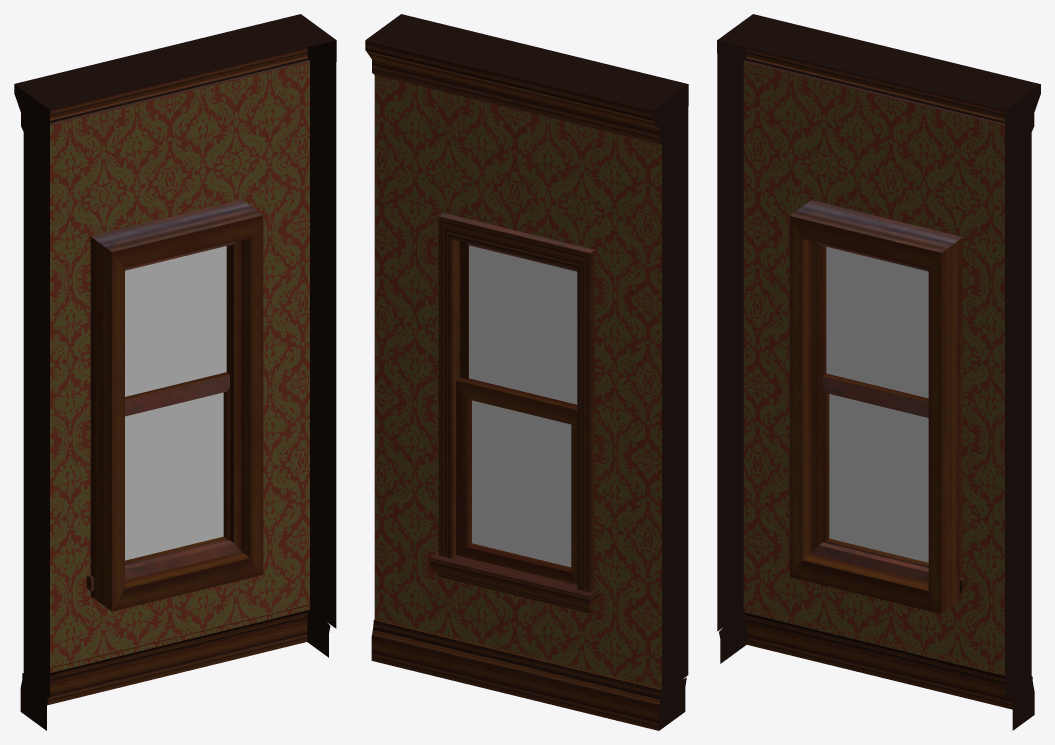
File: Wall_Plain_Window.fbx
The picture shows the model from 3 angles, left to right: view 1: azimuth 30°, elevation 25°; view 2: azimuth 150°, elevation 25°; view 3: azimuth 330°, elevation 25°; orthographic projection.
Parts seen in each view (by area): view 1: WallSmoothWindowREG; view 2: WallSmoothWindowREG; view 3: WallSmoothWindowREG.
Part boxes in pixels (x1,y1,x2,y2): WallSmoothWindowREG: (14, 14, 336, 730); WallSmoothWindowREG: (365, 14, 688, 730); WallSmoothWindowREG: (717, 14, 1040, 730).
Size of the model in its own units: 179 by 371 by 38.65.
